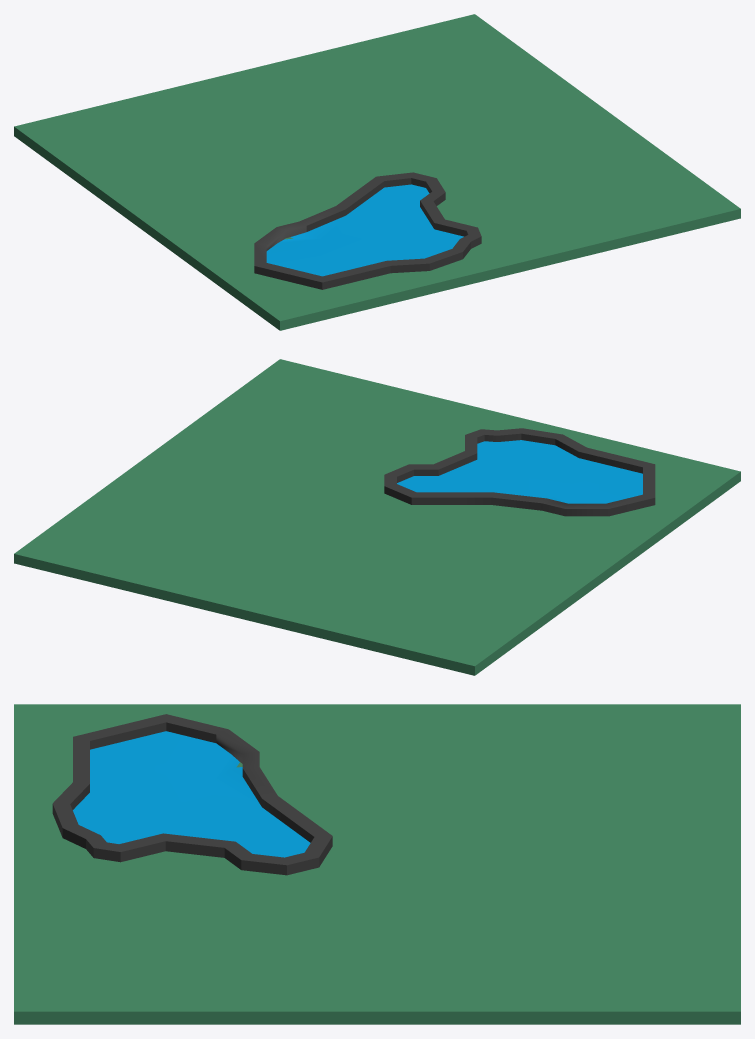
File: pond2.fbx
The picture shows the model from 3 angles, top to bottom: view 1: azimuth 30°, elevation 25°; view 2: azimuth 150°, elevation 25°; view 3: azimuth 270°, elevation 25°; orthographic projection. The views are drawn at different scales.
Visible parts, largest first — view 1: polySurface2; view 2: polySurface2; view 3: polySurface2.
Boxes of the visible parts, x1,y1,x2,y2 form: polySurface2: (14,14,740,330); polySurface2: (14,359,740,675); polySurface2: (14,704,740,1024).
Bounding box in the file's own units: 140 × 4.94 × 140.
